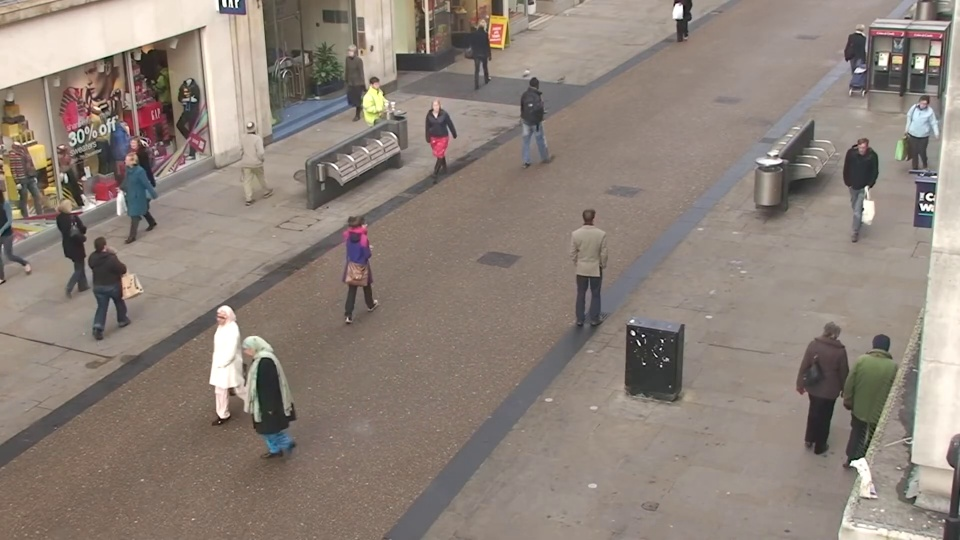pedestrian: (850, 322, 910, 475), (219, 330, 277, 479), (805, 308, 861, 456), (190, 299, 247, 440), (89, 221, 142, 342), (55, 188, 107, 300), (345, 200, 387, 318), (106, 150, 151, 252), (571, 204, 609, 324), (836, 136, 878, 238), (112, 133, 155, 230), (895, 94, 939, 188), (242, 115, 278, 209), (418, 95, 449, 185), (362, 73, 392, 156), (526, 75, 555, 160), (843, 19, 876, 93), (335, 45, 363, 120), (474, 14, 498, 81)
